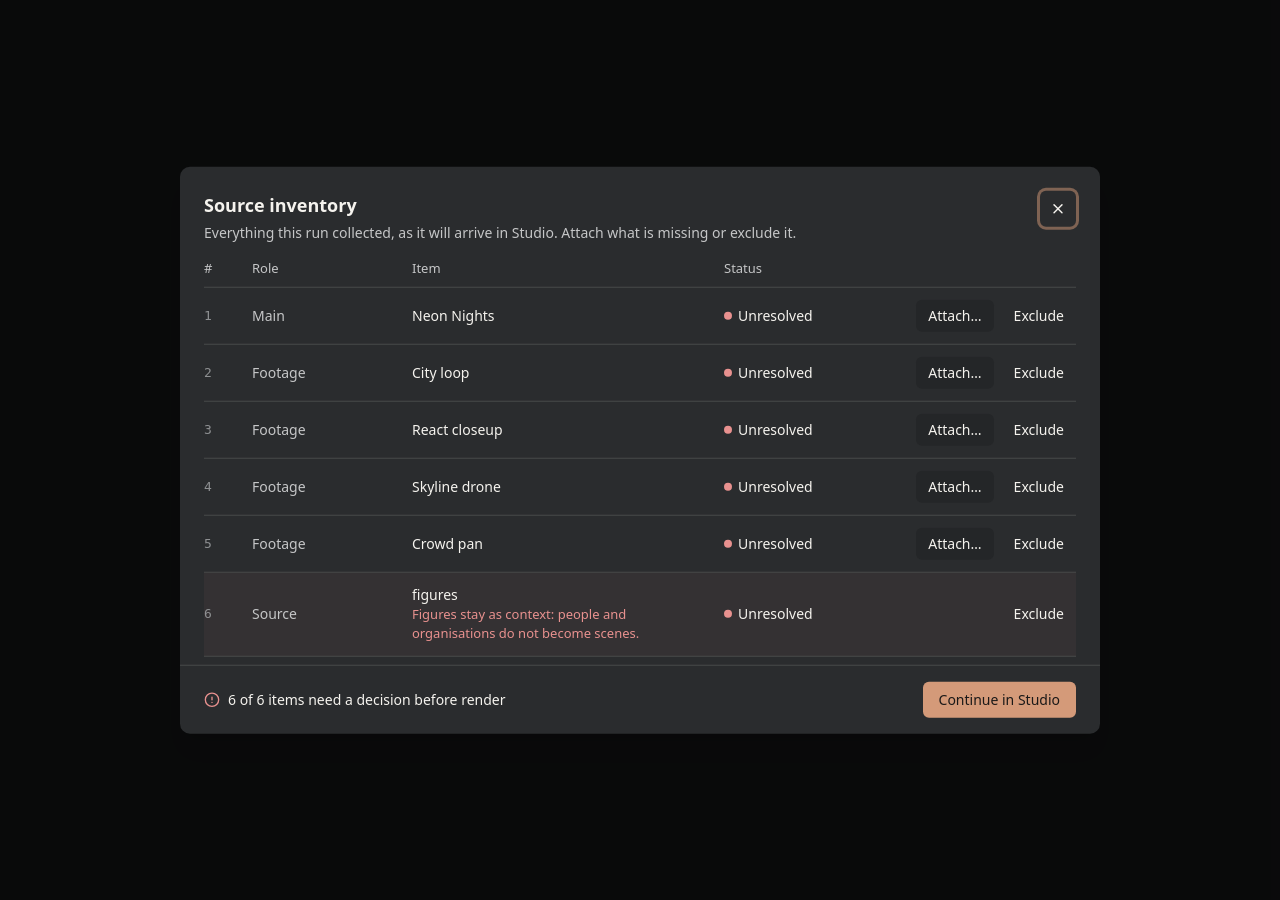
Scenario: a source range the asset cannot hold (trim_exceeds_asset) is stated and leaves the item unresolved
Step 1. Click the button "Attach…" in the row of "City loop" → (955, 372), box [916,356,994,388]
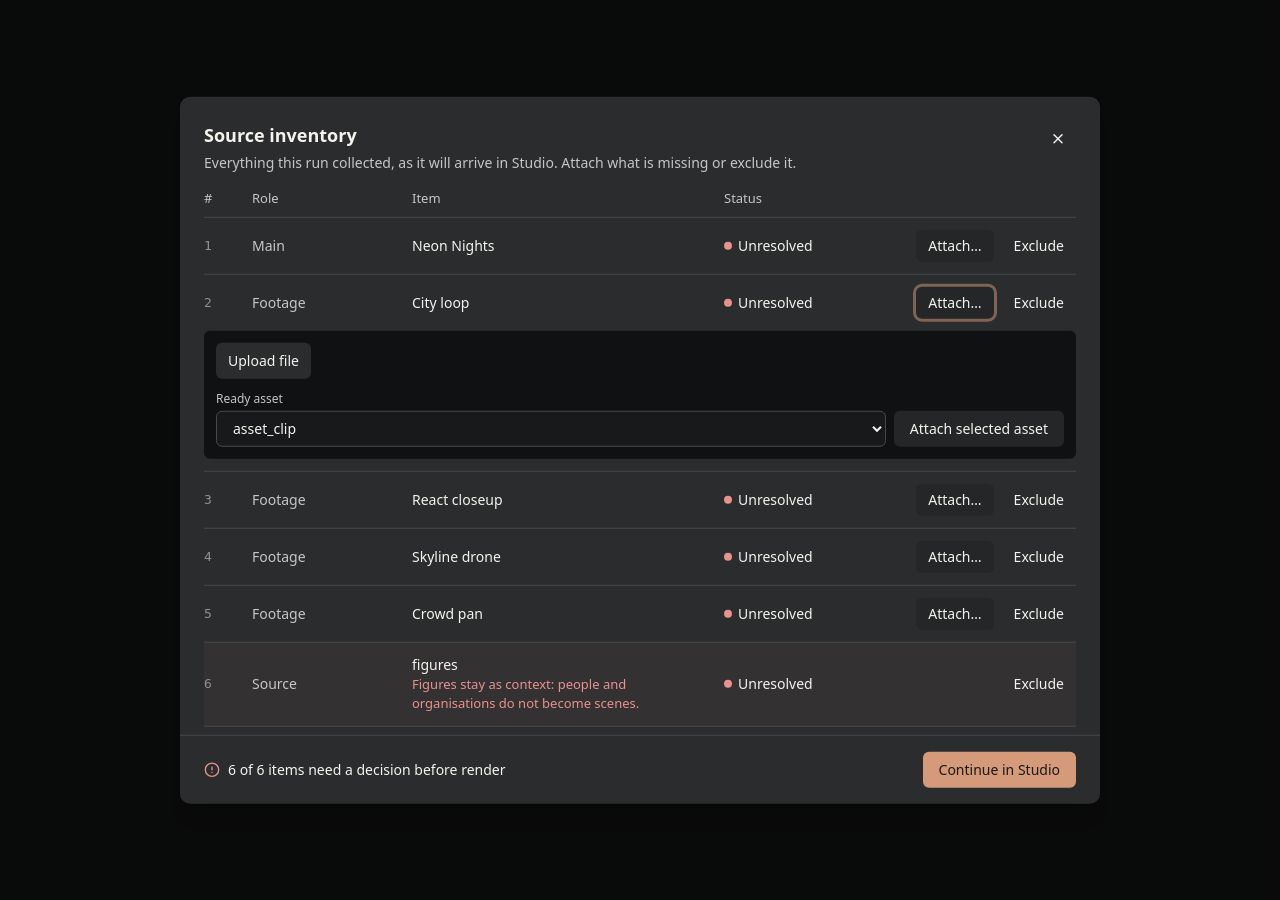
Expected: the dropdown labelled "Ready asset" is shown, [216,410,886,446]
Step 2. Click the button "Attach selected asset" → (979, 428), box [894,410,1064,446]
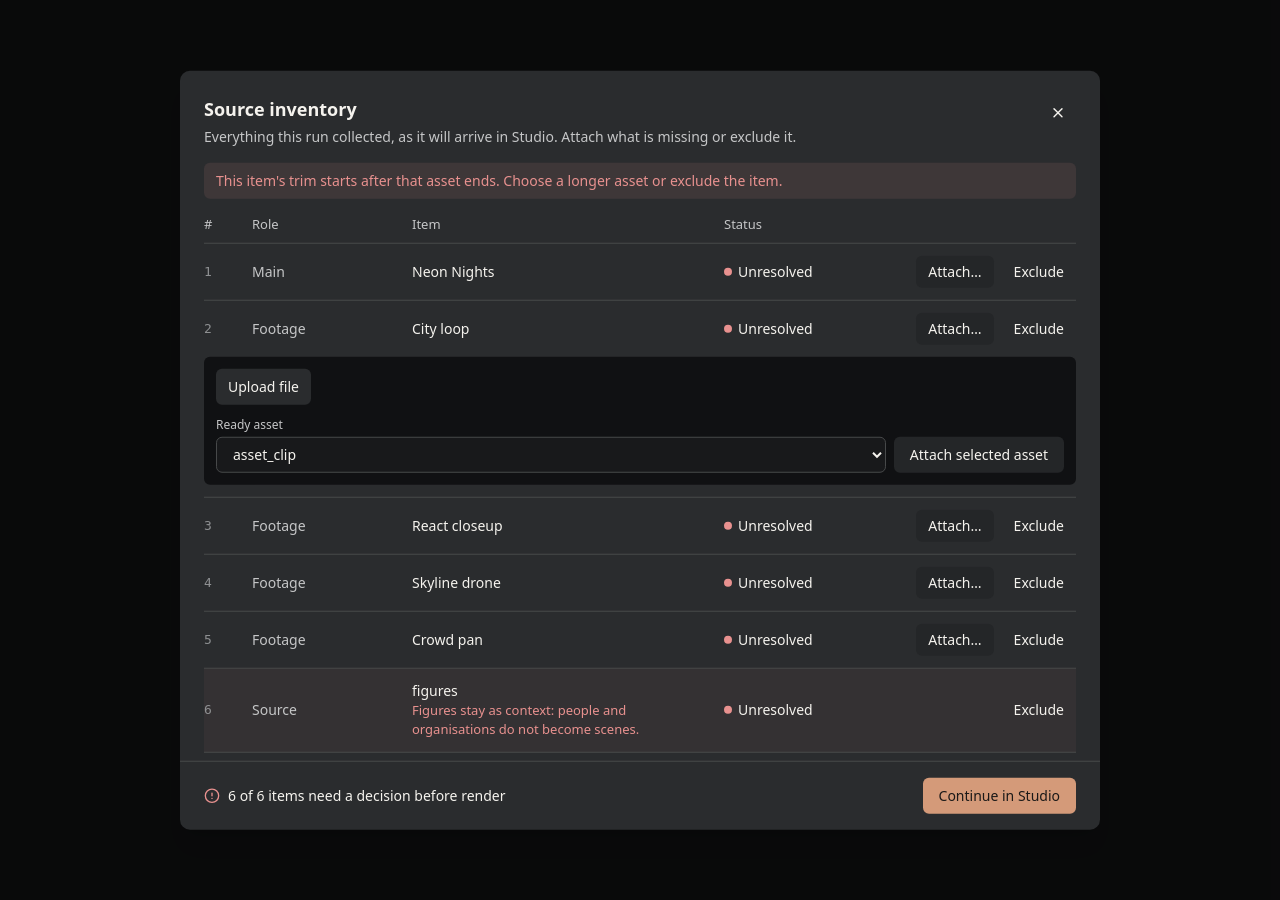
Expected: the text "Unresolved" is shown, [724,318,813,337]
Expected: the message shows "starts after that asset ends", [216,171,782,190]
